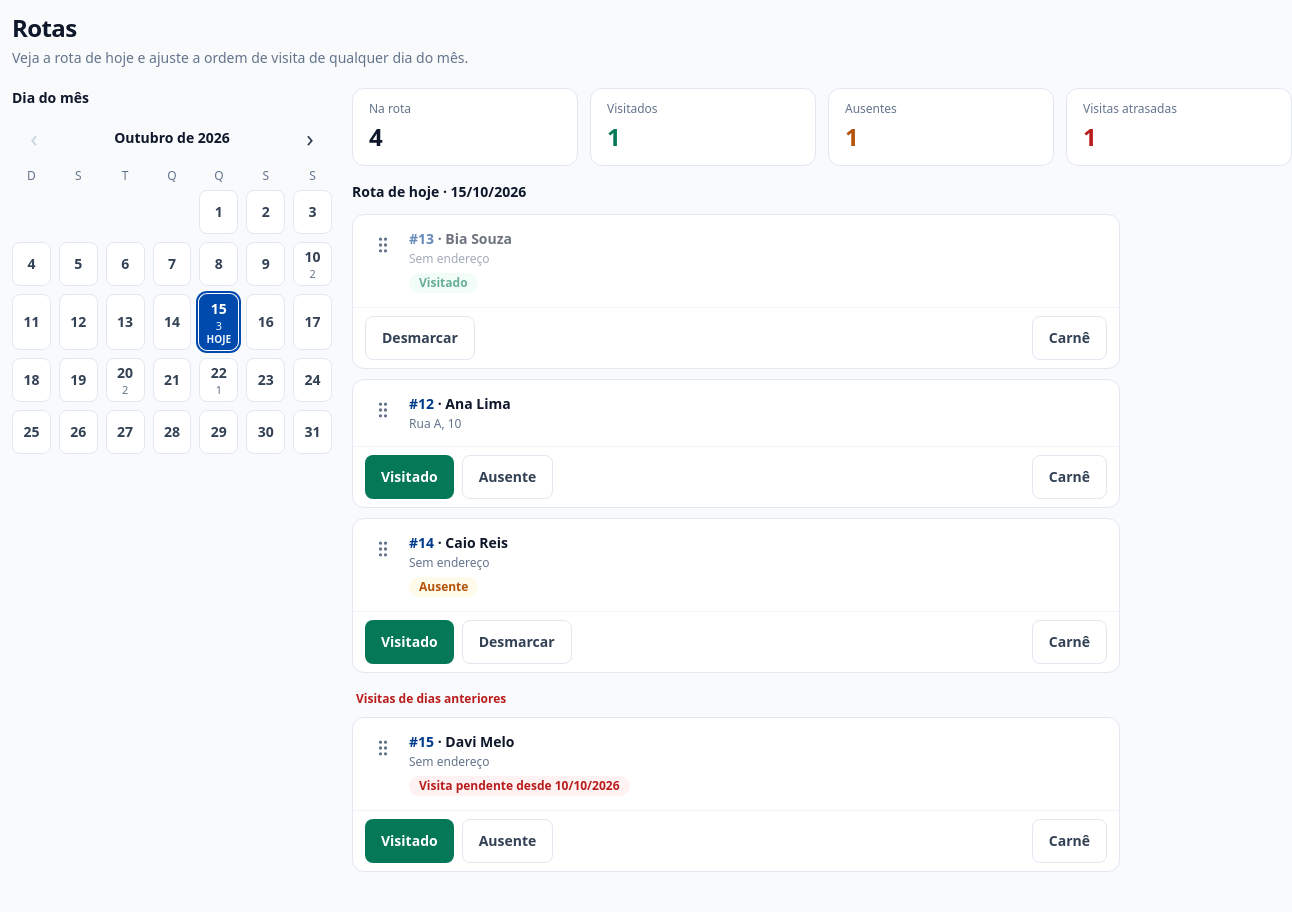
Test case: RotasPage — próxima cobrança (E7) › data só com cobrança mostra a lista, não "Nenhum cliente neste dia"
This screenshot has width=1292, height=912.
Click the button named "22 de outubro, 1 cliente". click: (219, 380)
box: [199,358,238,402]
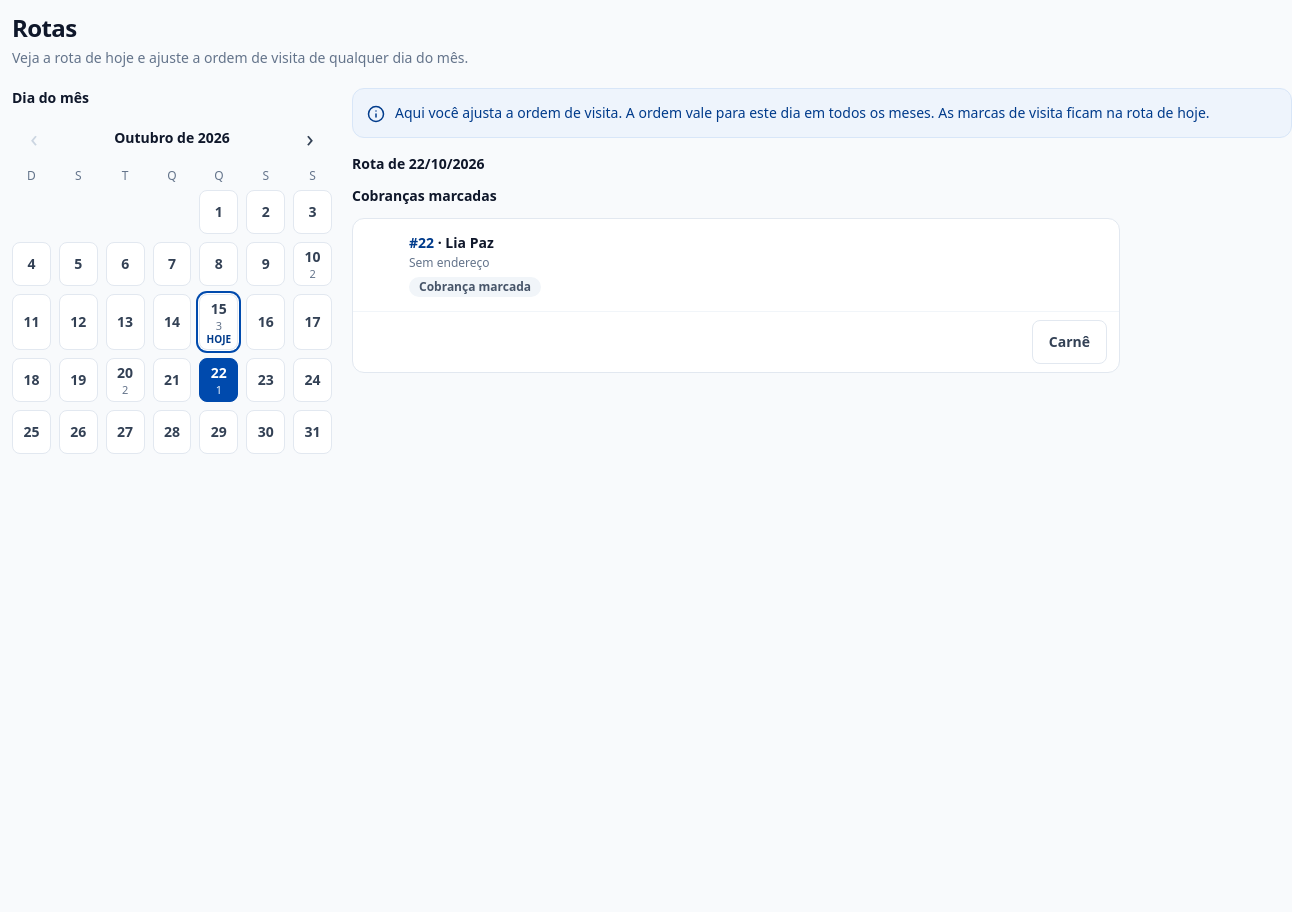
Expected: the list named "Cobranças marcadas" is shown, [352,218,1120,373]
Expected: the text "Nenhum cliente neste dia" is not shown
Click the button named "21 de outubro". click: (172, 380)
box: [153,358,192,402]
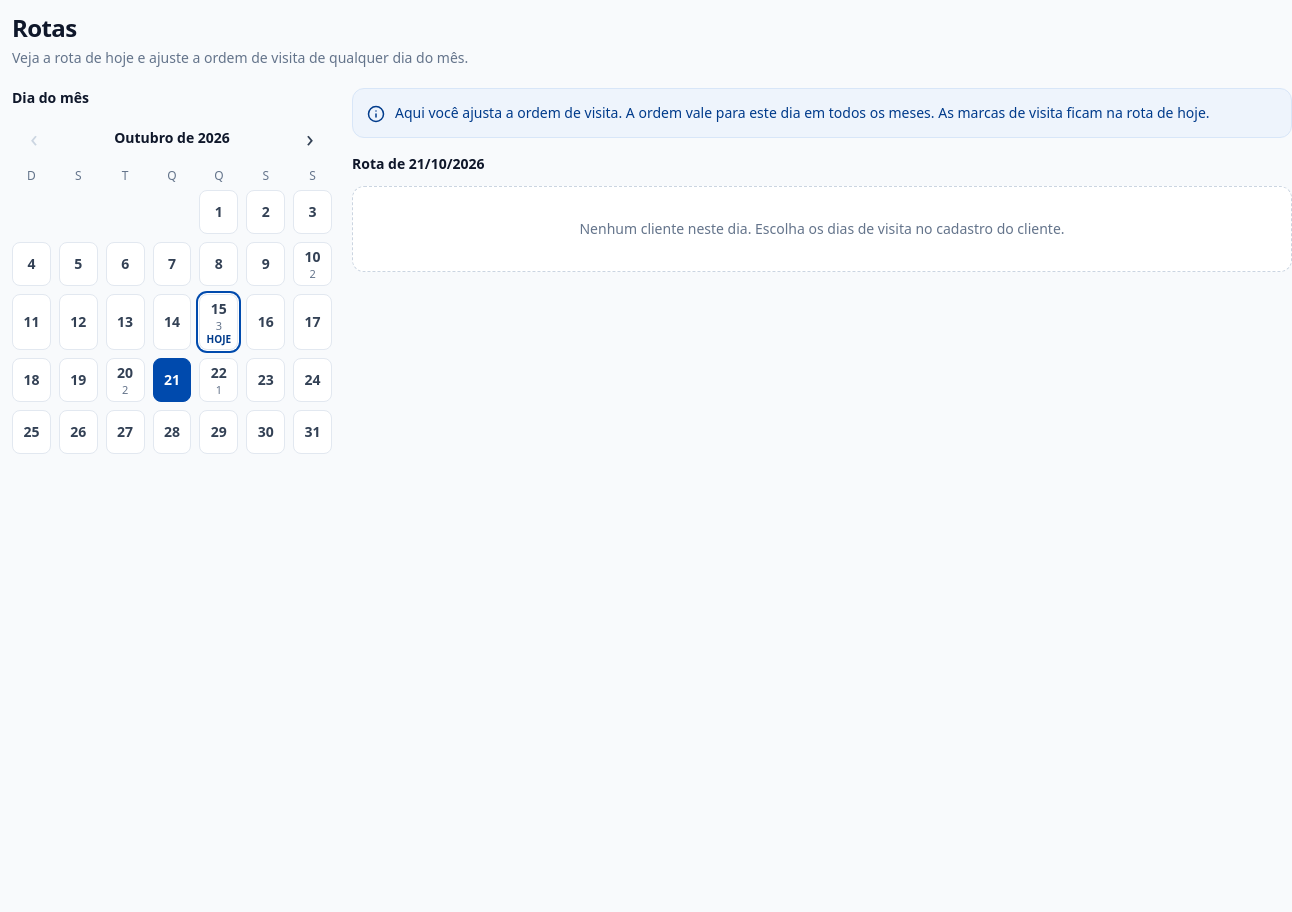
Expected: the text "Nenhum cliente neste dia" is shown, [579,219,1064,238]
Expected: the heading "Cobranças marcadas" is gone
